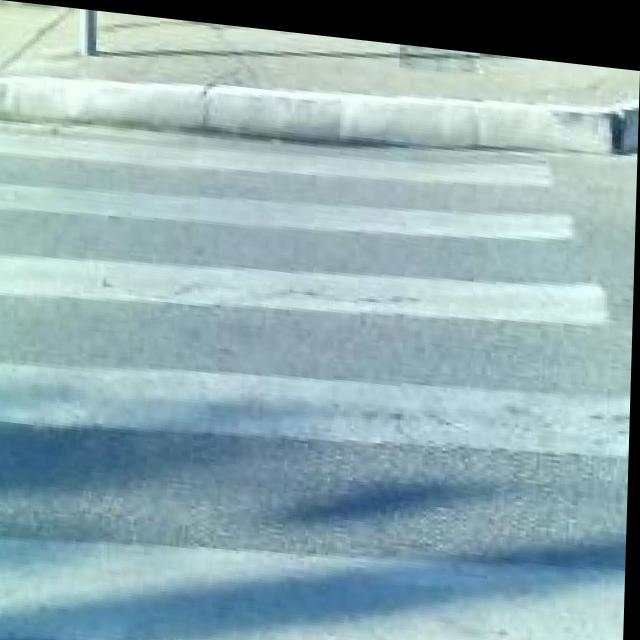zebra: (0, 124, 562, 640)
